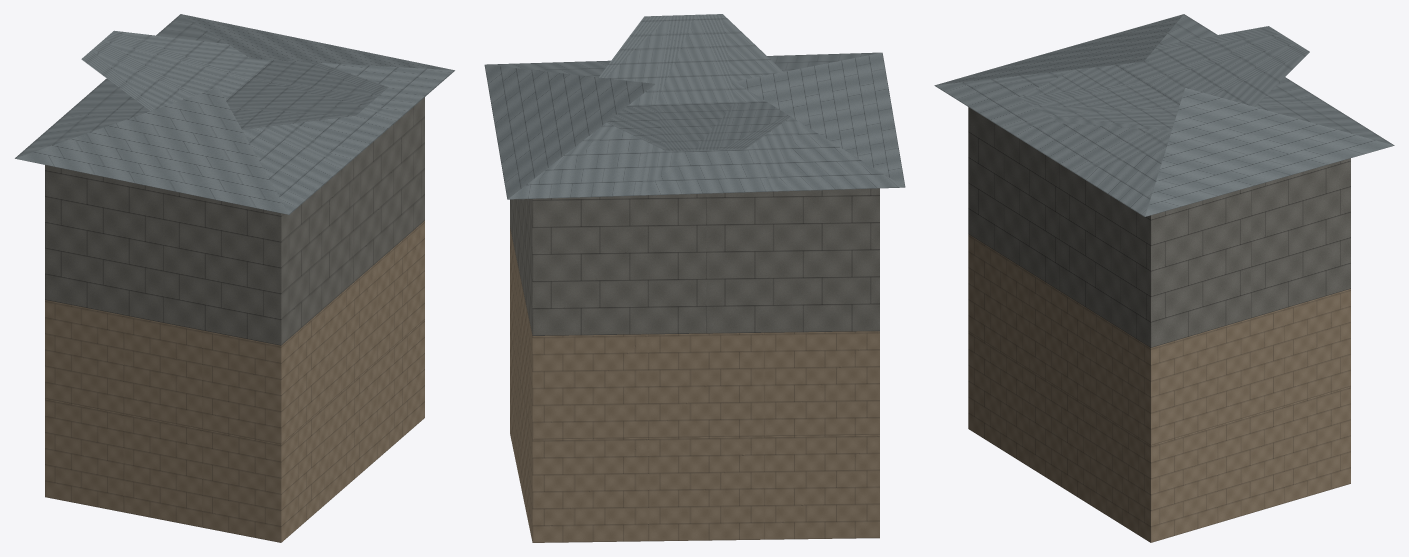
The model's file is bld_c-4_17_542.gltf.
The picture shows the model from 3 angles, left to right: view 1: azimuth 30°, elevation 25°; view 2: azimuth 150°, elevation 25°; view 3: azimuth 270°, elevation 25°; orthographic projection. The views are drawn at different scales.
Visible parts, largest first — view 1: bld_c-4_17_542; view 2: bld_c-4_17_542; view 3: bld_c-4_17_542.
Boxes of the visible parts, <box> form: bld_c-4_17_542: <box>15,14,454,542</box>; bld_c-4_17_542: <box>484,14,905,542</box>; bld_c-4_17_542: <box>934,14,1394,542</box>.
Size of the model in its own units: 10.67 by 9.3 by 10.23.
Materials: 3 (3 with a texture image).
